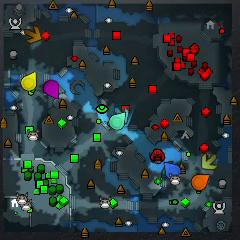p1: (165, 162, 181, 179)
p2: (109, 112, 126, 129)
p3: (44, 80, 59, 100)
p4: (21, 71, 37, 90)
p5: (192, 174, 210, 190)
x2: (202, 154, 218, 170)
x3: (114, 107, 128, 123)
x5: (24, 26, 41, 43)
